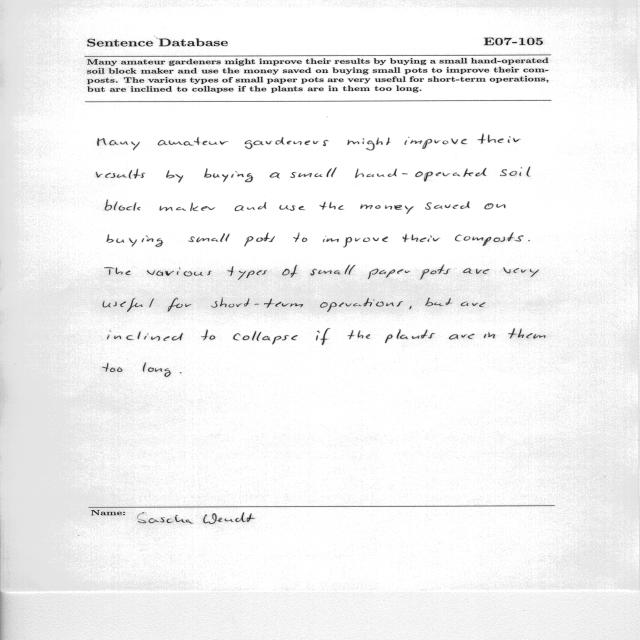word: (355, 168, 486, 181), (320, 298, 403, 312), (211, 297, 303, 308), (245, 137, 329, 149), (455, 232, 523, 246), (233, 331, 298, 344), (107, 330, 183, 341), (405, 137, 467, 149), (107, 234, 163, 247), (323, 236, 388, 247), (103, 298, 154, 312), (385, 329, 435, 343), (204, 168, 253, 182), (158, 137, 228, 146), (147, 268, 211, 277), (348, 138, 391, 151), (228, 266, 267, 280), (360, 204, 414, 214), (290, 167, 337, 178), (98, 138, 140, 150), (96, 169, 145, 179), (311, 265, 356, 275), (420, 265, 450, 280), (477, 134, 521, 144), (160, 203, 215, 211), (244, 233, 275, 247), (368, 269, 410, 279), (143, 362, 171, 377), (508, 328, 546, 339), (425, 201, 470, 210), (105, 200, 141, 211), (188, 234, 230, 243), (503, 267, 539, 277), (168, 298, 192, 312), (500, 166, 530, 177), (403, 234, 440, 242), (235, 202, 266, 211), (425, 298, 452, 307), (316, 328, 330, 345), (167, 170, 184, 183), (105, 267, 131, 275), (319, 202, 344, 210), (348, 330, 370, 339), (282, 265, 297, 277), (103, 363, 123, 372), (279, 205, 305, 211), (463, 268, 489, 274), (449, 334, 474, 340), (202, 330, 216, 340), (485, 204, 506, 210), (293, 233, 307, 242), (461, 302, 486, 307), (484, 333, 495, 339), (270, 173, 280, 179), (410, 306, 412, 309), (528, 240, 530, 241), (180, 373, 181, 374)
